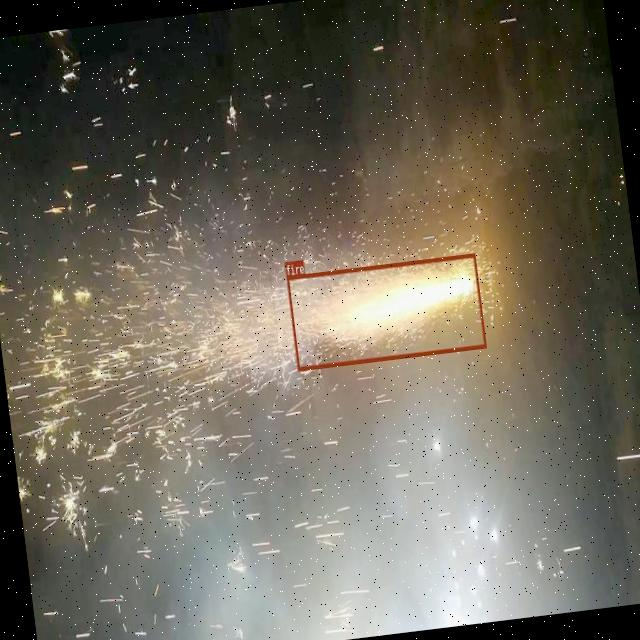fire: (285, 252, 486, 370)
